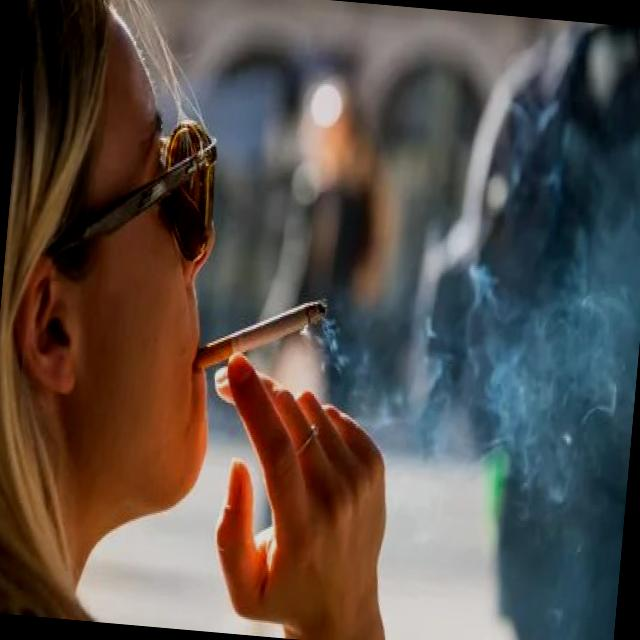smoke: (190, 283, 328, 390)
